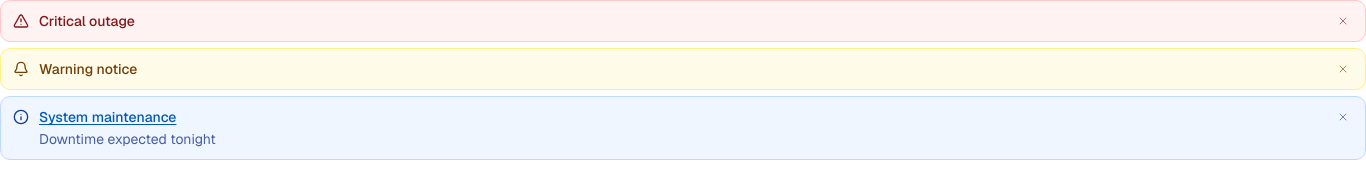
Scenario: AnnouncementBanner › removes an announcement when its dismiss button is clicked
This screenshot has width=1366, height=177.
Click the button without text in the row of "Critical outage".
click(1343, 21)  # box [1333,11,1353,31]
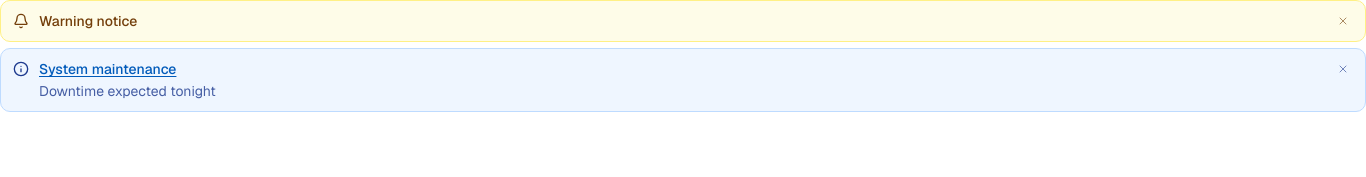
Result: the text "Critical outage" is gone
